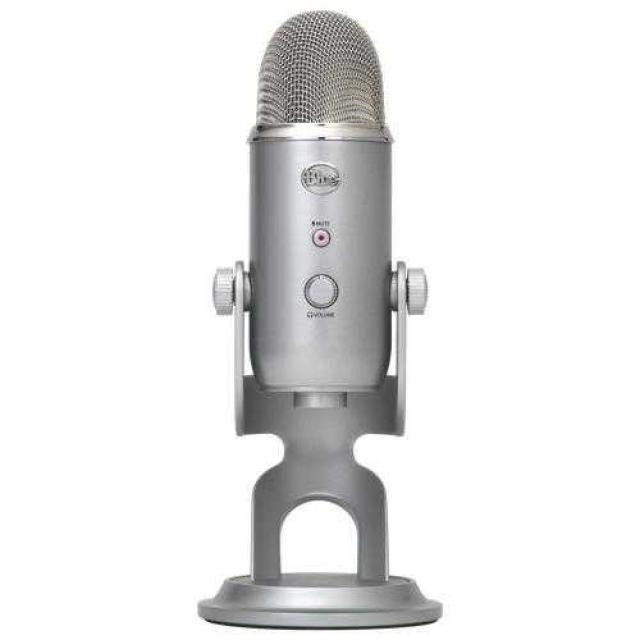microphone: (209, 8, 431, 454)
